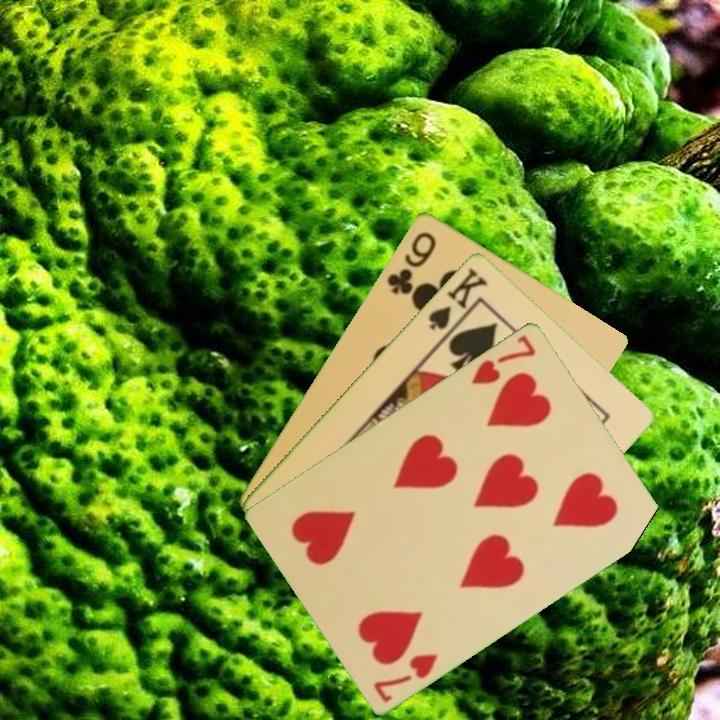7h: (467, 331, 539, 387), (370, 649, 441, 705)
9c: (382, 227, 439, 297)
Ks: (425, 263, 491, 341)
